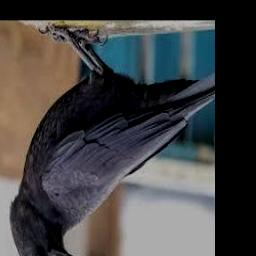Crow: (9, 25, 215, 256)
